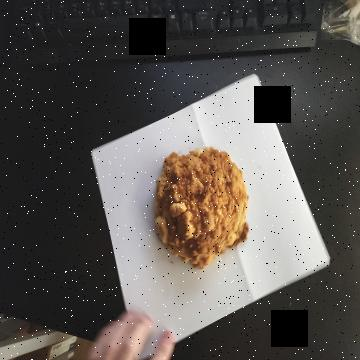soboru_bread: (153, 146, 250, 269)
